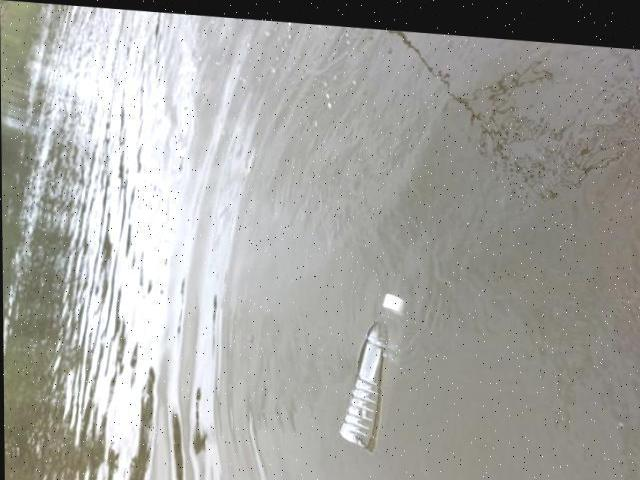Bottle: (332, 288, 417, 456)
